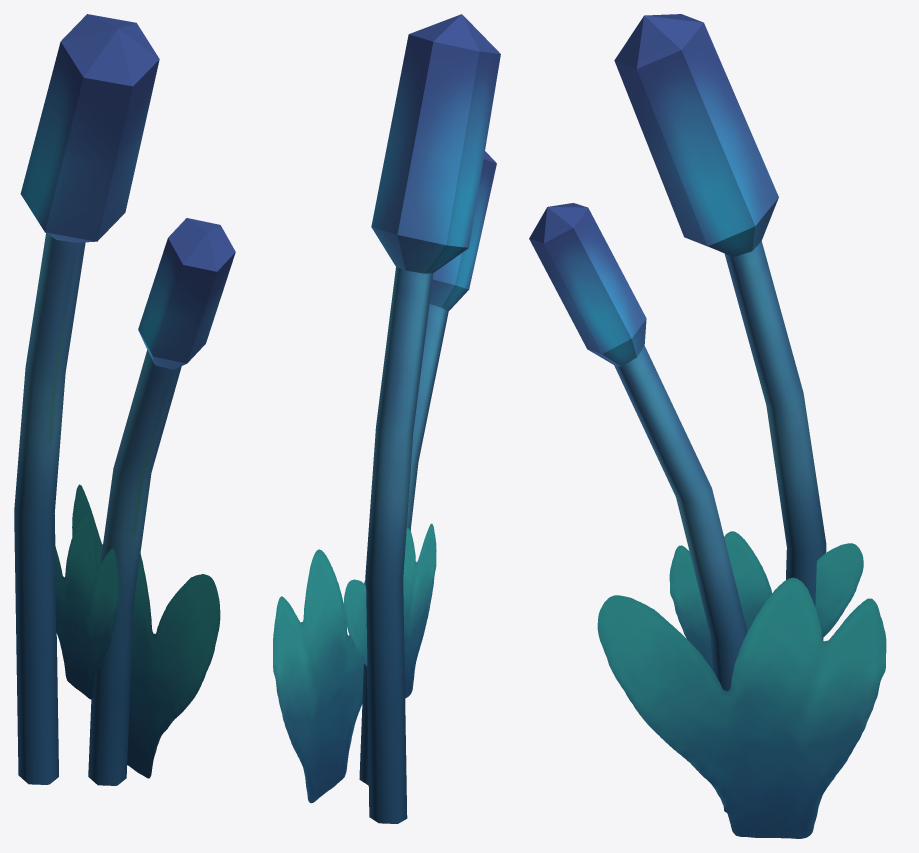
File: flower_13.FBX
3 views of the same model, side by side, from view 1: azimuth 30°, elevation 25°; view 2: azimuth 150°, elevation 25°; view 3: azimuth 270°, elevation 25° (orthographic). The views are drawn at different scales.
Parts seen in each view (by area): view 1: Plane006; view 2: Plane006; view 3: Plane006.
Part boxes in pixels (x1,y1,x2,y2): Plane006: [14, 14, 235, 785]; Plane006: [273, 14, 500, 823]; Plane006: [529, 14, 886, 838].
Bounding box in the file's own units: 0.1765 × 1.14 × 0.4961.
